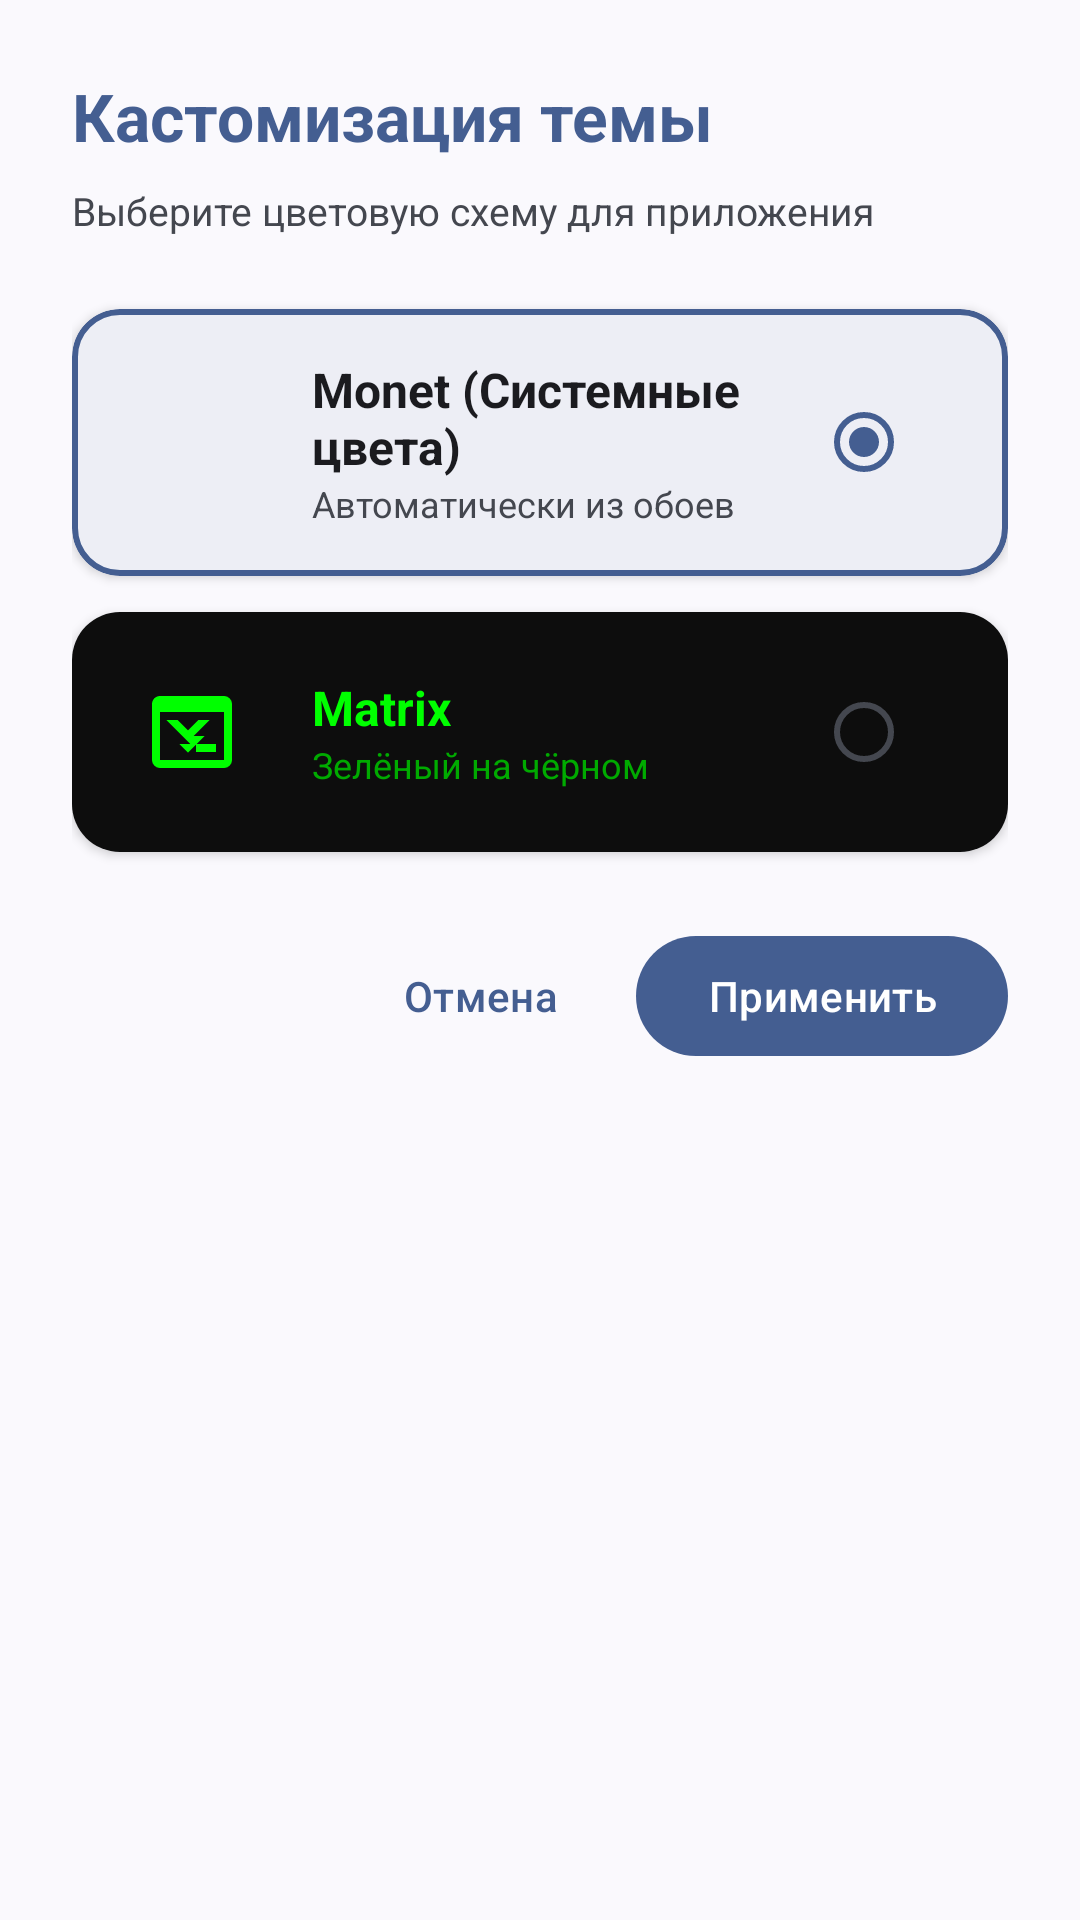

Icons on this 1080px x 1920px Android screen, each with its box as (x1, y1, x2, y2):
terminal: (152, 696, 232, 768)
